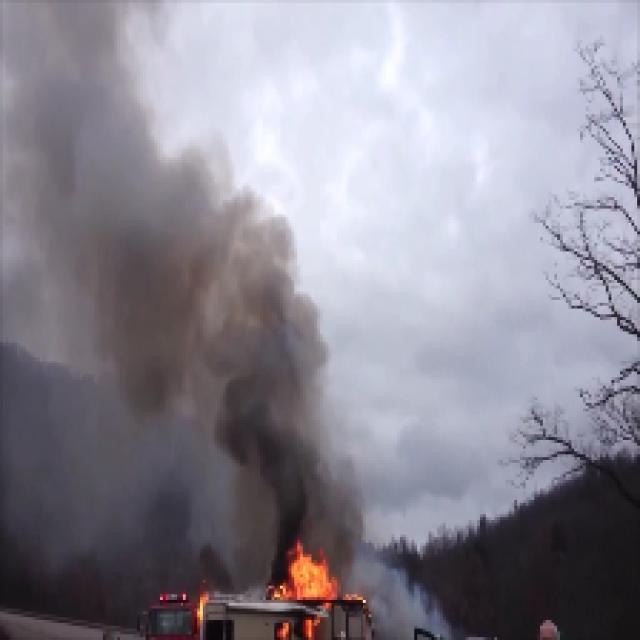fire: (275, 549, 335, 640)
smoke: (160, 150, 361, 533), (5, 1, 152, 518)
